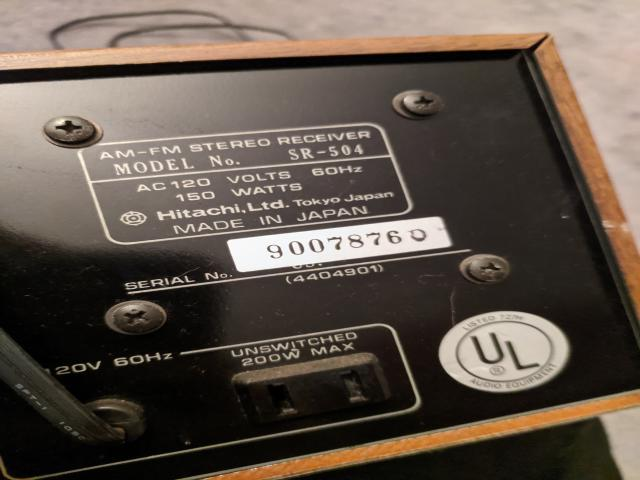CRS: (111, 304, 167, 332), (45, 116, 96, 146), (402, 91, 447, 118), (465, 257, 510, 281)
